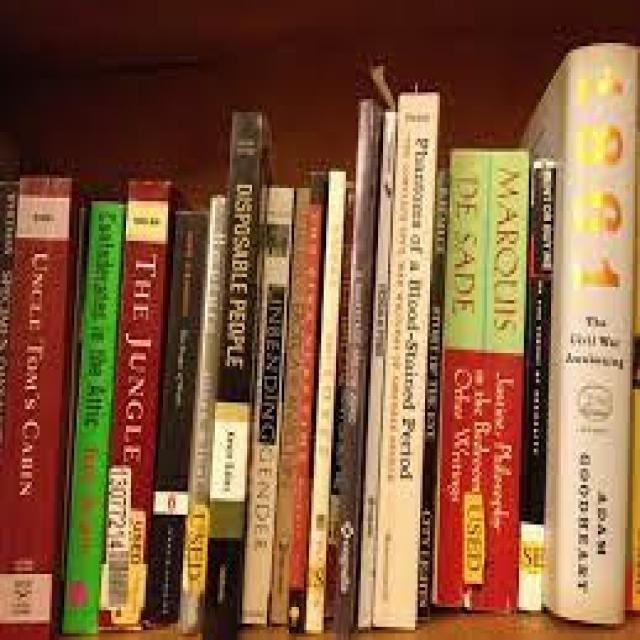book: (556, 48, 639, 627), (373, 91, 439, 629), (0, 177, 70, 637), (203, 113, 261, 639), (102, 181, 170, 627), (64, 201, 125, 633), (146, 208, 209, 622), (438, 150, 489, 612), (241, 183, 294, 624), (336, 100, 379, 636), (482, 152, 531, 615), (175, 202, 227, 635), (355, 112, 396, 631), (304, 172, 345, 632), (516, 162, 557, 611), (286, 170, 325, 628), (270, 189, 310, 623)
